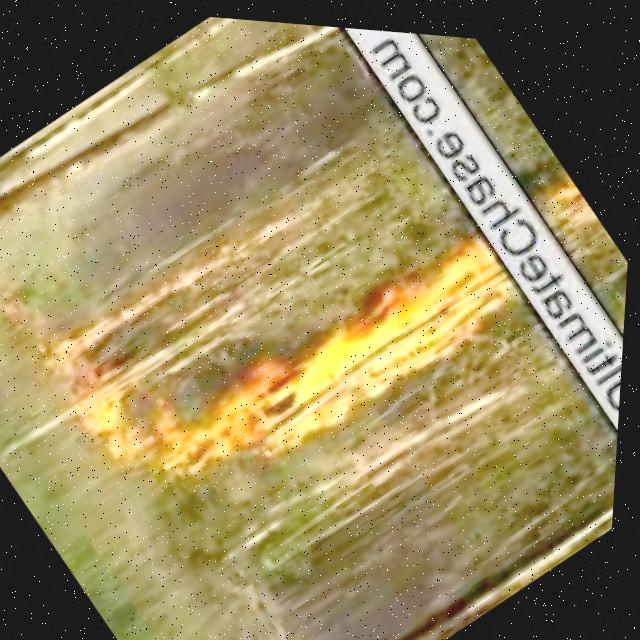Fire: (231, 208, 520, 468), (29, 280, 261, 526), (539, 163, 598, 225)
